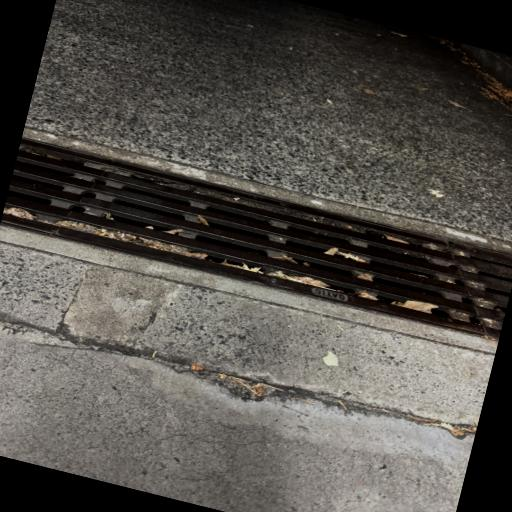gutter: (3, 139, 512, 339)
stairs: (172, 216, 401, 280)
